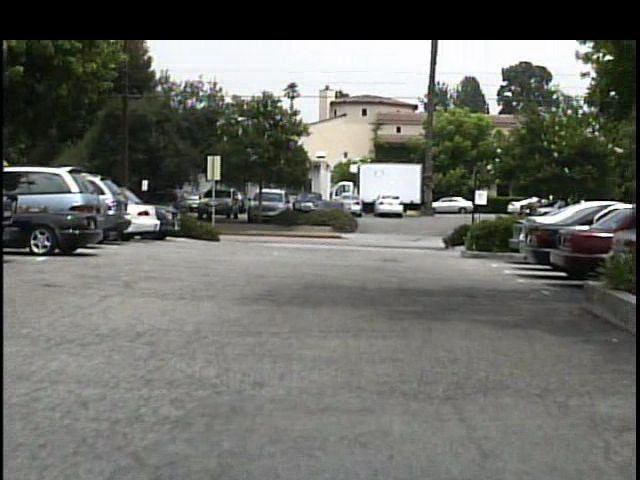person: (173, 194, 194, 235)
